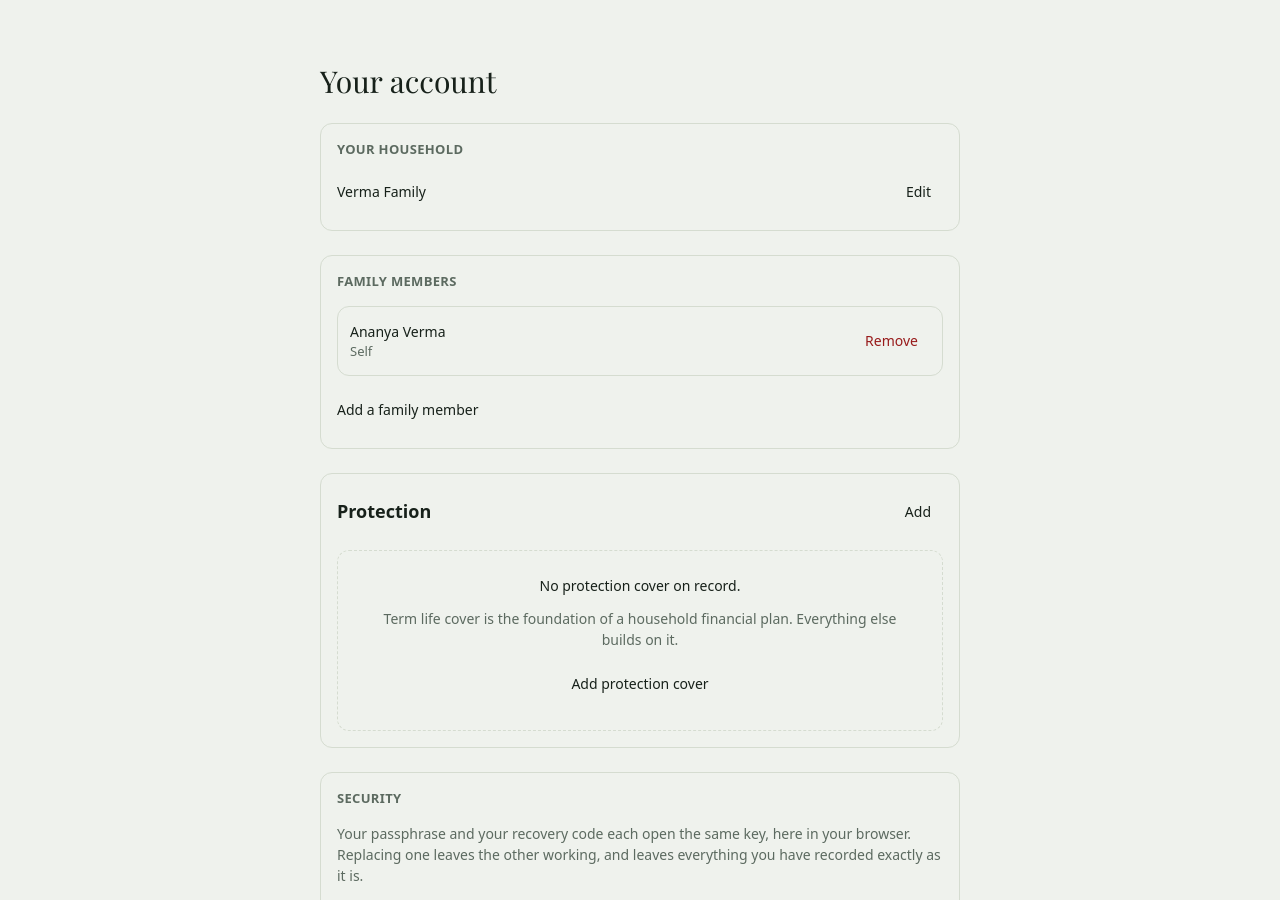
Scenario: Profile › opens the edit-member sheet pre-filled when a member row is tapped
This screenshot has width=1280, height=900.
Click the text "Ananya Verma": (398, 332) [350, 322, 446, 341]
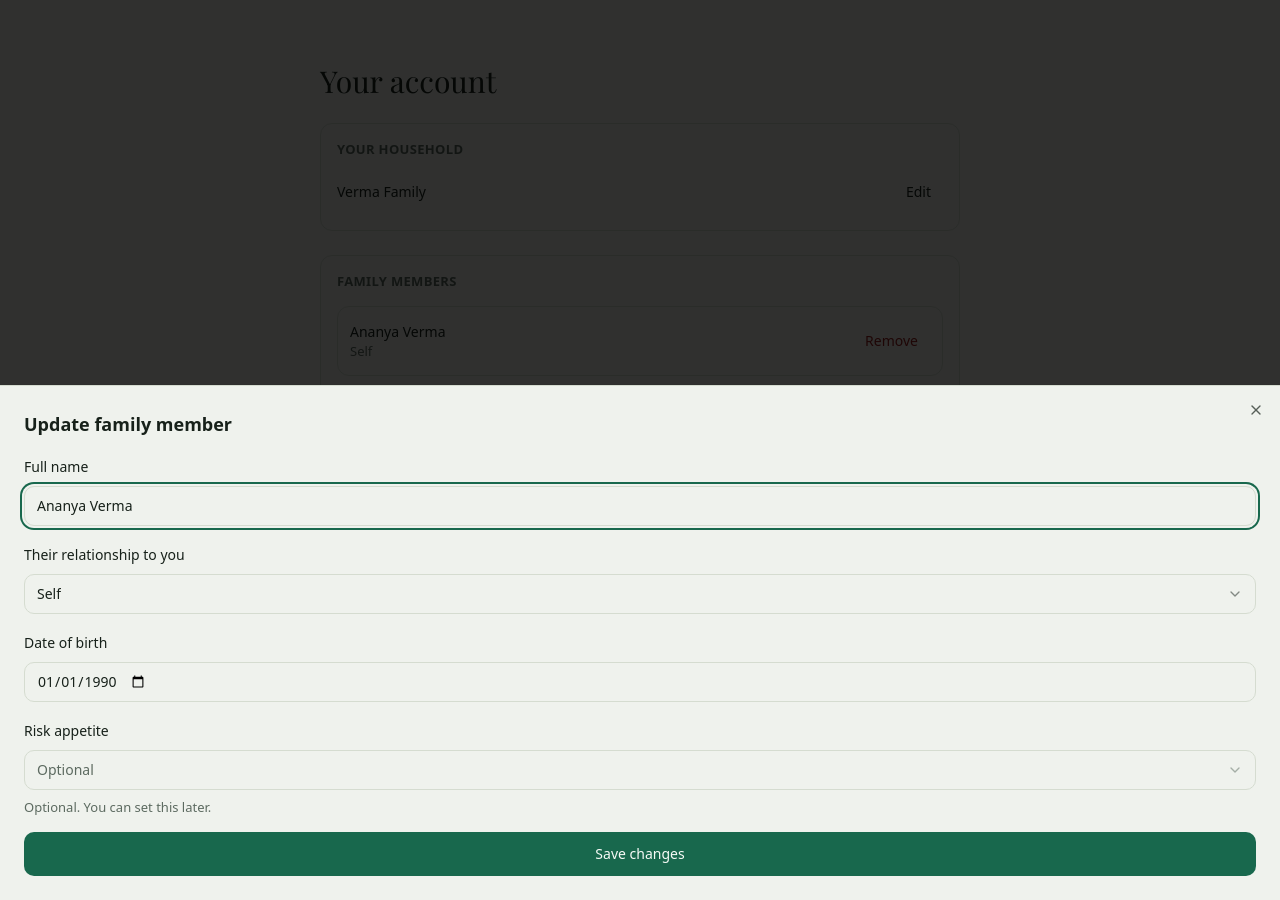
Now the heading "Update family member" is shown, box [24, 412, 232, 436]
Now the field labelled "Full name" holds "Ananya Verma", box [24, 486, 1256, 526]
